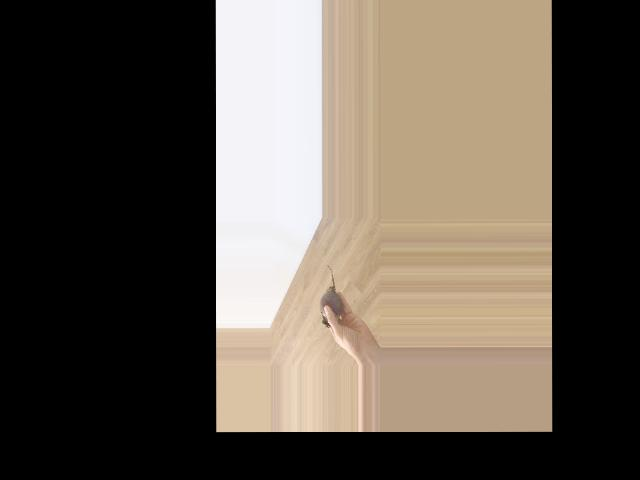beet: (320, 264, 342, 327)
